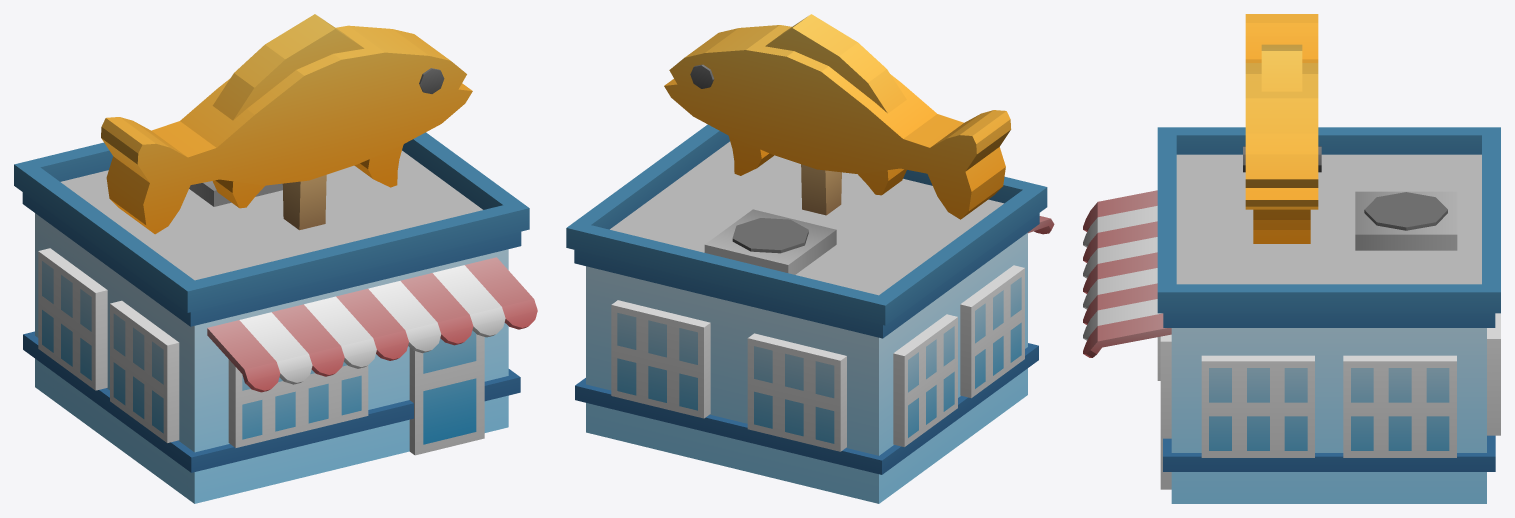
Rendered from fish shop.fbx.
The picture shows the model from 3 angles, left to right: view 1: azimuth 30°, elevation 25°; view 2: azimuth 150°, elevation 25°; view 3: azimuth 270°, elevation 25°; orthographic projection. The views are drawn at different scales.
Parts seen in each view (by area): view 1: fish_shop; view 2: fish_shop; view 3: fish_shop.
Boxes of the visible parts, x1,y1,x2,y2 form: fish_shop: [14, 14, 537, 503]; fish_shop: [566, 14, 1054, 503]; fish_shop: [1083, 14, 1500, 503].
Bounding box in the file's own units: 505 × 551 × 533.
Materials: 1 (1 with a texture image).
